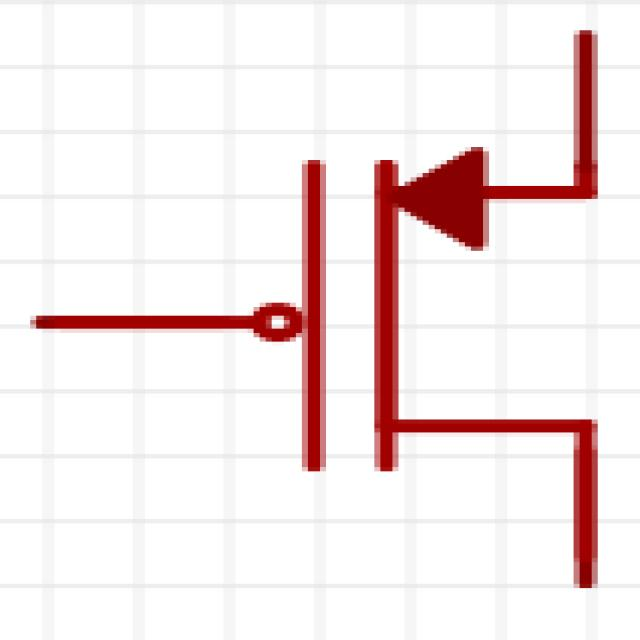pmos: (53, 58, 640, 601)
